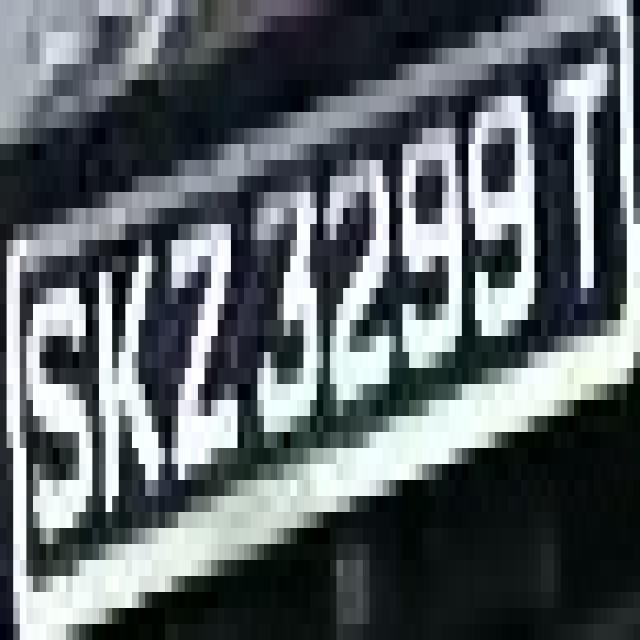2: (297, 112, 389, 432)
3: (237, 112, 330, 448)
9: (442, 64, 548, 400), (389, 80, 462, 432)
K: (79, 208, 178, 544)
S: (7, 208, 92, 608)
T: (528, 16, 633, 320)
Z: (158, 160, 258, 512)
